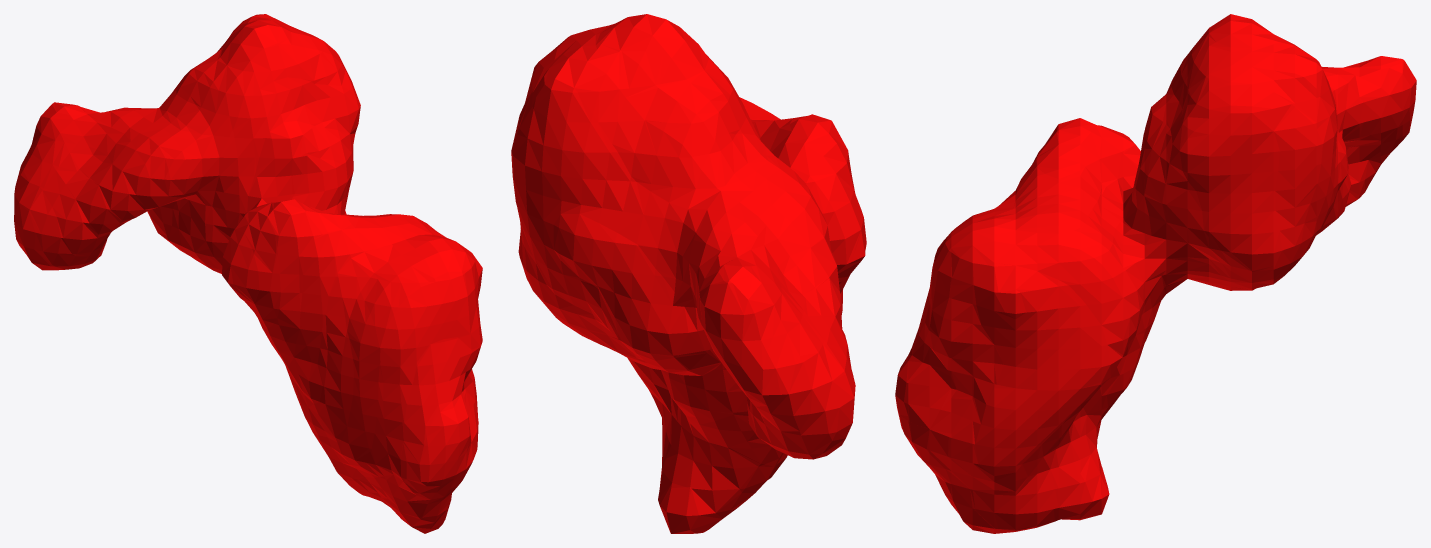
Rendered from nfuA_coarse.dae.
The picture shows the model from 3 angles, left to right: view 1: azimuth 30°, elevation 25°; view 2: azimuth 150°, elevation 25°; view 3: azimuth 270°, elevation 25°; orthographic projection. The views are drawn at different scales.
Parts seen in each view (by area): view 1: nfuA; view 2: nfuA; view 3: nfuA.
Part boxes in pixels (x1=…): nfuA: x1=14, y1=14, x2=482, y2=533; nfuA: x1=511, y1=14, x2=866, y2=533; nfuA: x1=895, y1=14, x2=1416, y2=533.
Bounding box in the file's own units: 49.59 × 66.97 × 65.47.
